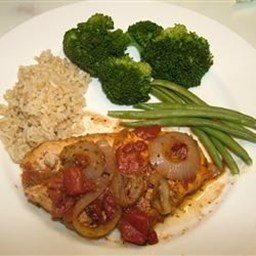background: (0, 4, 102, 98)
